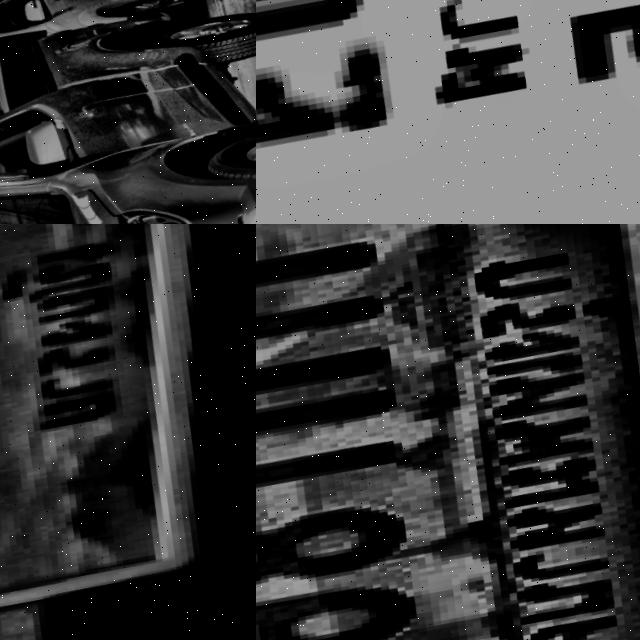license-plate: (256, 224, 640, 640), (0, 224, 256, 640), (256, 0, 640, 224)
